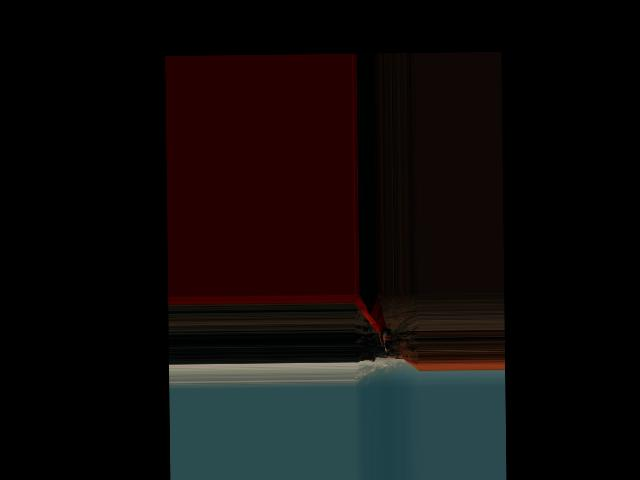beer: (382, 329, 392, 355)
